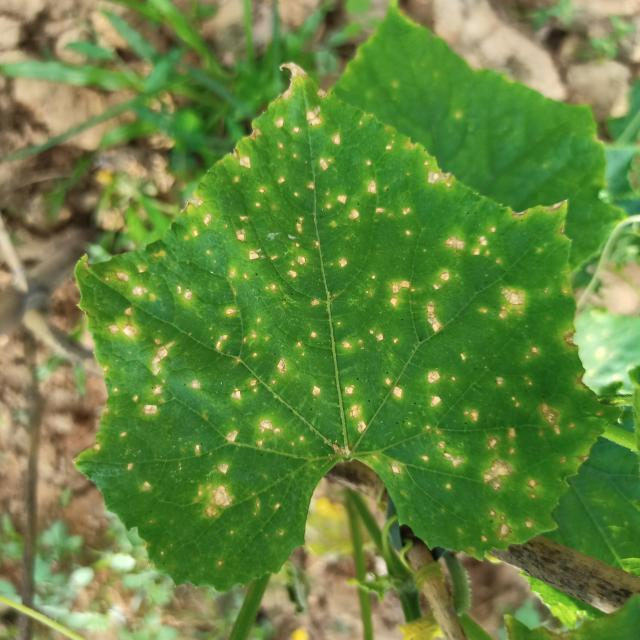disease_cucumber: (122, 105, 532, 326), (341, 277, 585, 546), (90, 294, 349, 544)
